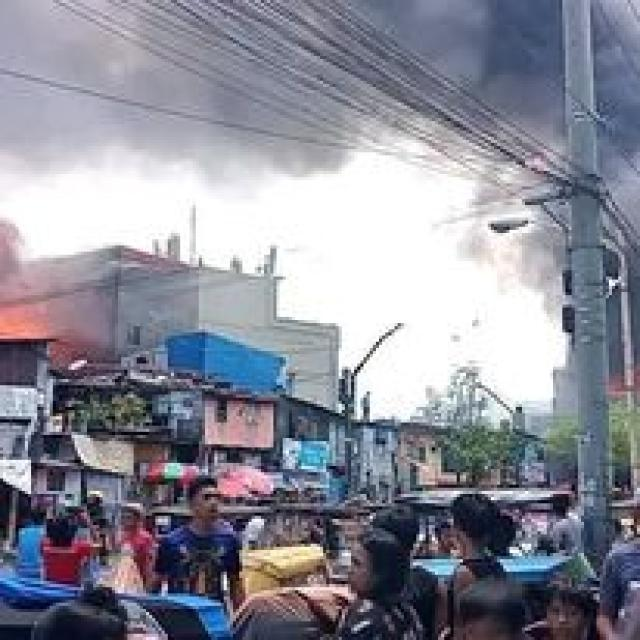Fire: (3, 238, 64, 342)
Smoke: (0, 0, 516, 195), (444, 0, 640, 193)
